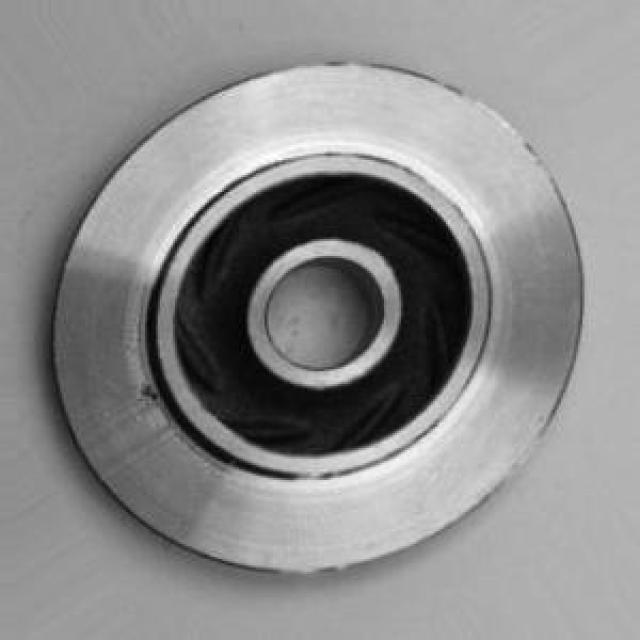Defect: (132, 379, 174, 412)
